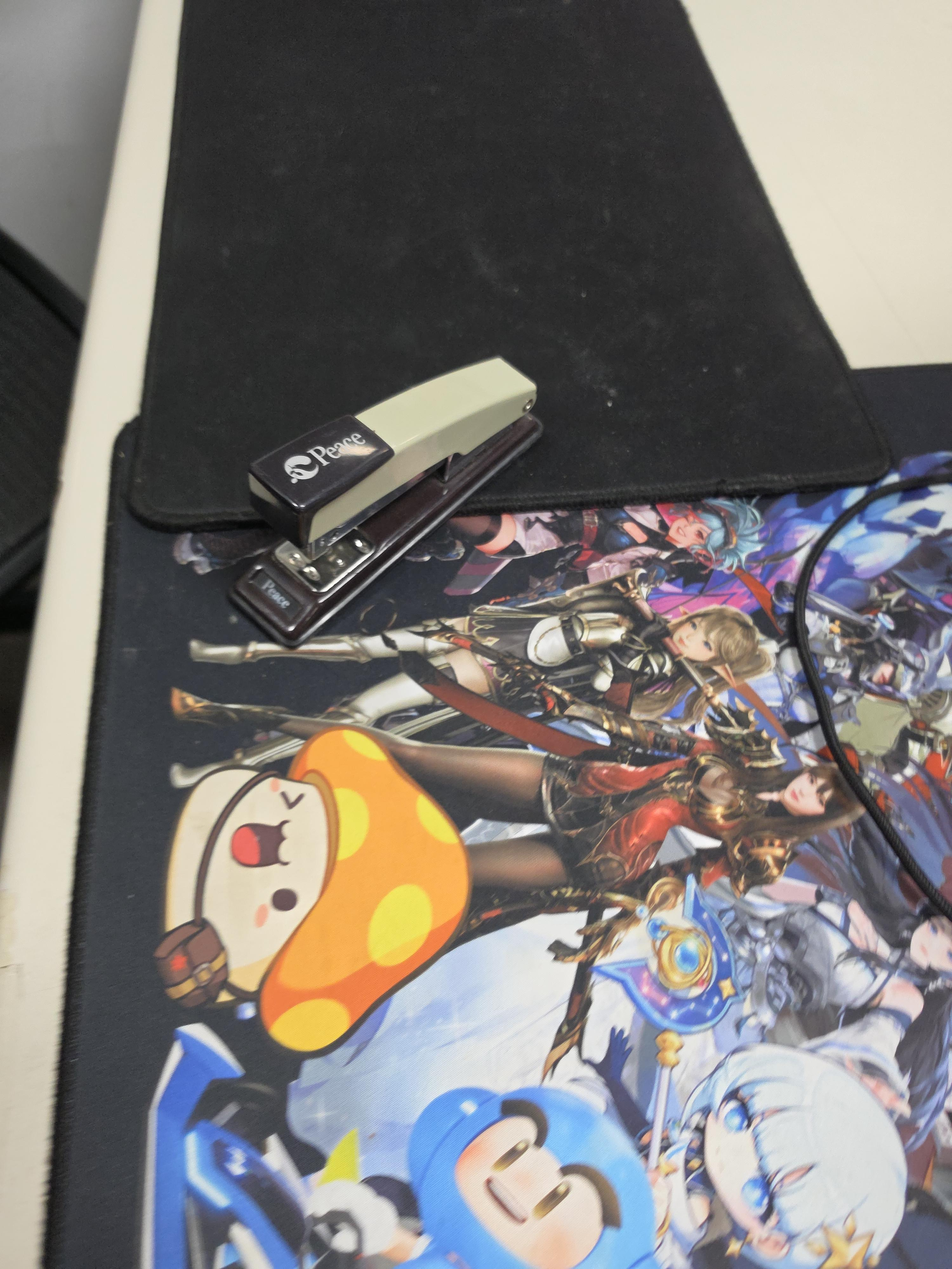stapler: (229, 356, 547, 649)
